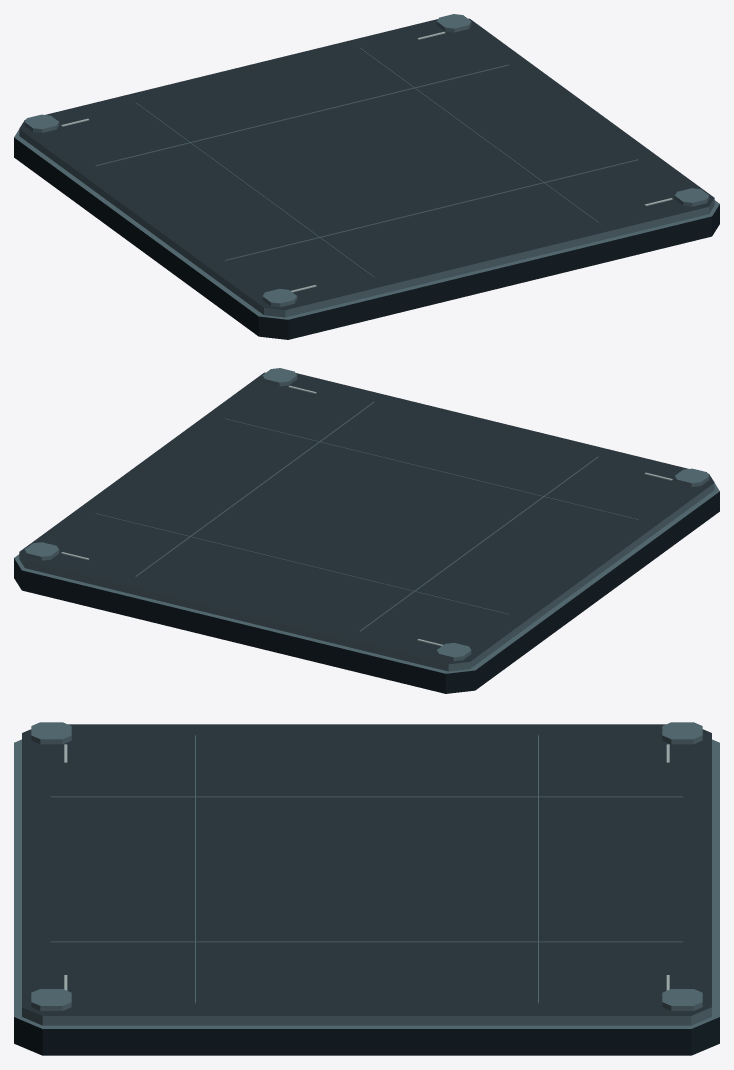
Rendered from module-slab.glb.
3 renders of one model, top to bottom at view 1: azimuth 30°, elevation 25°; view 2: azimuth 150°, elevation 25°; view 3: azimuth 270°, elevation 25°, orthographic. The views are drawn at different scales.
Parts seen in each view (by area): view 1: module-slab; view 2: module-slab; view 3: module-slab.
Boxes of the visible parts, x1,y1,x2,y2 form: module-slab: [14, 14, 719, 339]; module-slab: [14, 368, 719, 693]; module-slab: [14, 722, 719, 1055].
Bounding box in the file's own units: 7.9 × 0.525 × 7.9.
